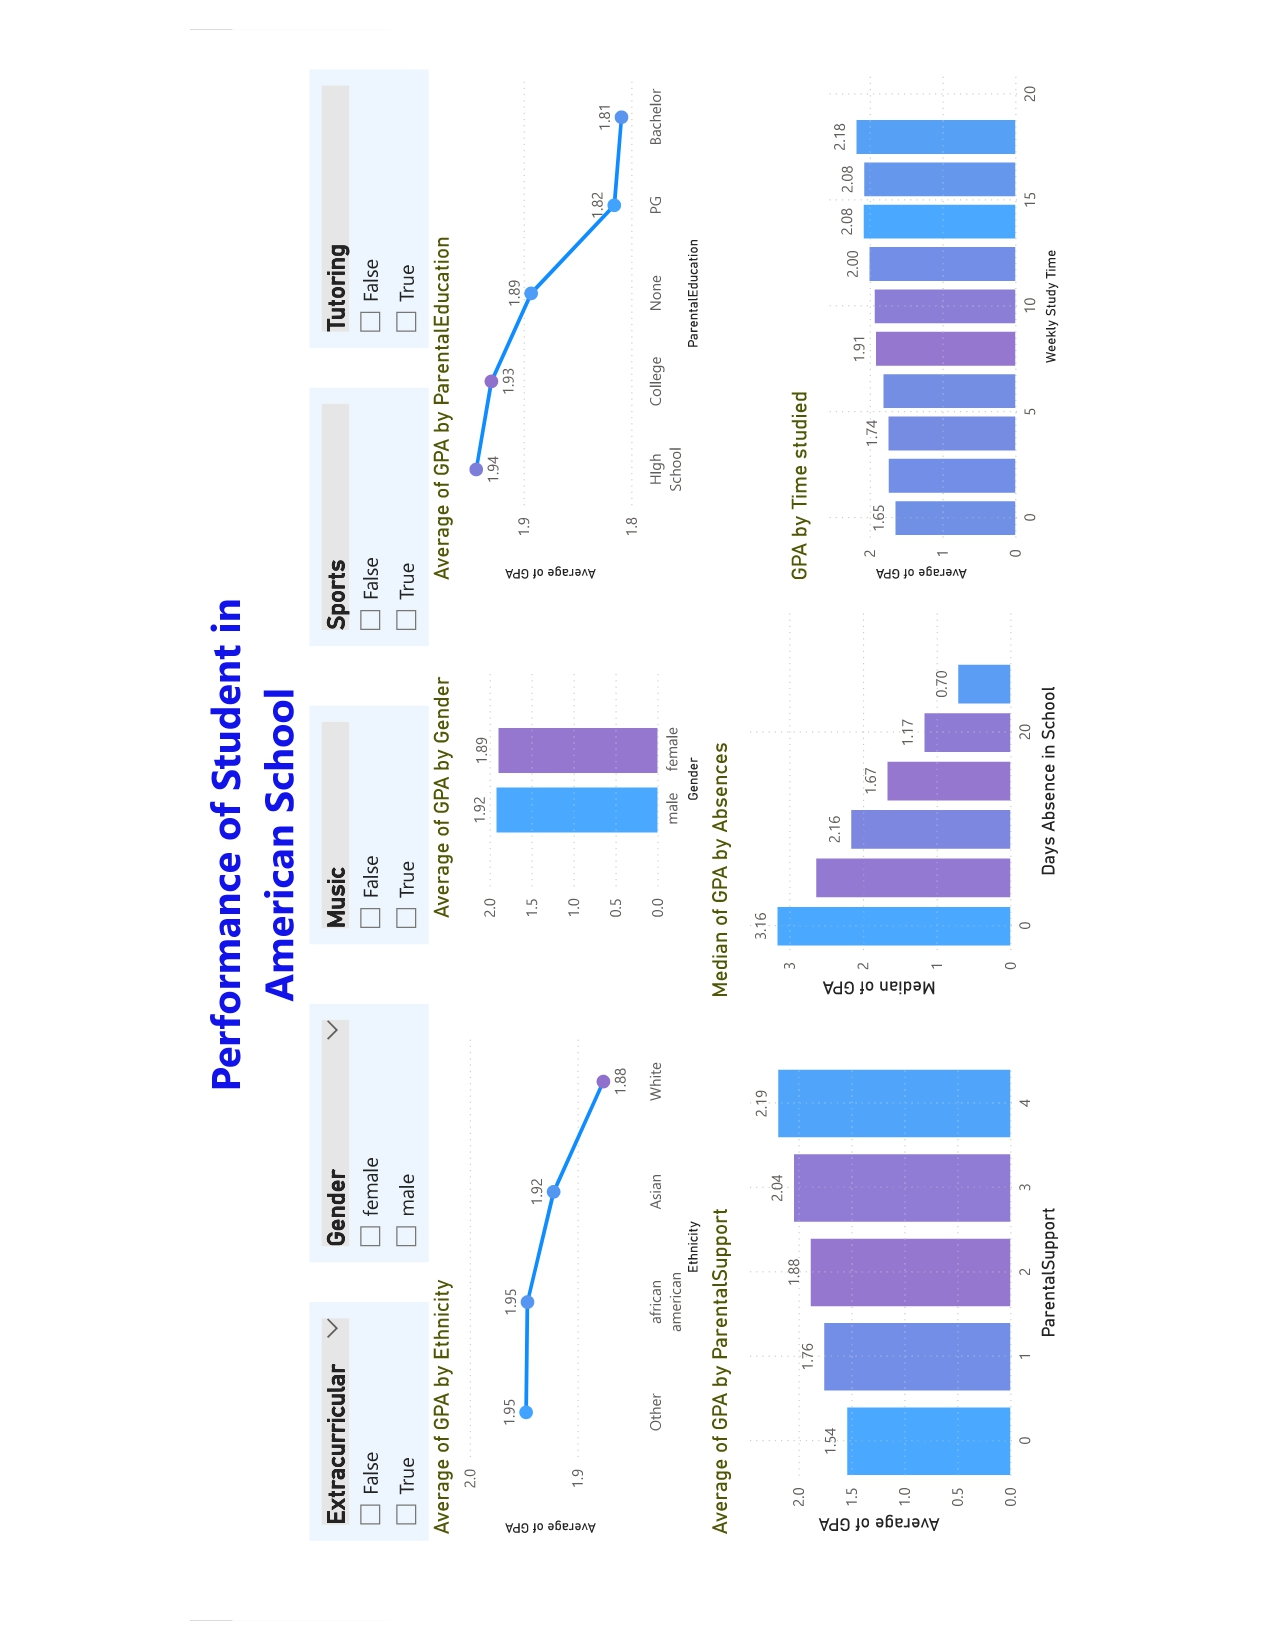

The page's visual inventory and layout, read from the dashboard file:
{"tool":"powerbi","page":{"name":"GPA","canvas":[1280,720],"ordinal":0},"visuals":[{"type":"lineChart","fields":{"Category":["Student_performance_data _.Ethnicity"],"Y":["Avg(Student_performance_data _.GPA)"]},"box":[64,192,416,224],"z":0},{"type":"columnChart","fields":{"Category":["Student_performance_data _.Gender"],"Y":["Avg(Student_performance_data _.GPA)"]},"box":[560,192,208,224],"z":1000},{"type":"lineChart","fields":{"Category":["Student_performance_data _.ParentalEducation"],"Y":["Avg(Student_performance_data _.GPA)"]},"box":[832,192,416,224],"z":2000},{"type":"textbox","box":[352,0,544,96],"z":3000},{"type":"columnChart","fields":{"Category":["Student_performance_data _.ParentalSupport"],"Y":["Avg(Student_performance_data _.GPA)"]},"box":[64,416,384,288],"z":4000},{"type":"columnChart","title":"GPA by Time studied","fields":{"Category":["Student_performance_data _.StudyTimeWeekly (bins)"],"Y":["Avg(Student_performance_data _.GPA)"]},"box":[832,480,416,224],"z":5000},{"type":"columnChart","title":"Median of GPA by Absences ","fields":{"Category":["Student_performance_data _.Absences (bins)"],"Y":["Median(Student_performance_data _.GPA)"]},"box":[496,416,320,288],"z":6000},{"type":"slicer","fields":{"Values":["Student_performance_data _.Extracurricular"]},"box":[64,96,192,96],"z":7000},{"type":"slicer","fields":{"Values":["Student_performance_data _.Tutoring"]},"box":[1024,96,224,96],"z":8000},{"type":"slicer","fields":{"Values":["Student_performance_data _.Music"]},"box":[544,96,192,96],"z":9000},{"type":"slicer","fields":{"Values":["Student_performance_data _.Gender"]},"box":[288,96,208,96],"z":10000},{"type":"slicer","fields":{"Values":["Student_performance_data _.Sports"]},"box":[784,96,208,96],"z":11000}]}

Visuals, with their boxes on the page's 1280x720 design canvas (x1, y1, x2, y2). These are canvas units, not pixel positions in the 1275x1650 screenshot, which may show the page scaled, cropped or inside an application window:
lineChart - Student_performance_data _.Ethnicity x Avg(Student_performance_data _.GPA): locate(64, 192, 480, 416)
columnChart - Student_performance_data _.Gender x Avg(Student_performance_data _.GPA): locate(560, 192, 768, 416)
lineChart - Student_performance_data _.ParentalEducation x Avg(Student_performance_data _.GPA): locate(832, 192, 1248, 416)
textbox: locate(352, 0, 896, 96)
columnChart - Student_performance_data _.ParentalSupport x Avg(Student_performance_data _.GPA): locate(64, 416, 448, 704)
"GPA by Time studied" columnChart: locate(832, 480, 1248, 704)
"Median of GPA by Absences " columnChart: locate(496, 416, 816, 704)
slicer - Student_performance_data _.Extracurricular: locate(64, 96, 256, 192)
slicer - Student_performance_data _.Tutoring: locate(1024, 96, 1248, 192)
slicer - Student_performance_data _.Music: locate(544, 96, 736, 192)
slicer - Student_performance_data _.Gender: locate(288, 96, 496, 192)
slicer - Student_performance_data _.Sports: locate(784, 96, 992, 192)
